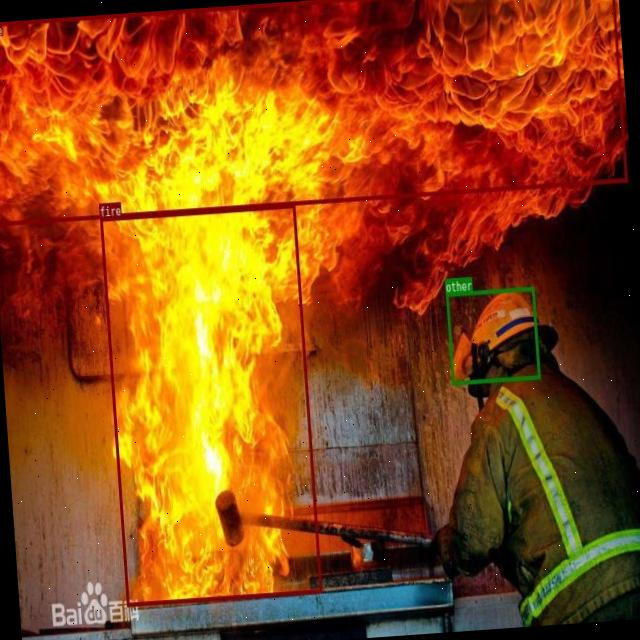fire: (0, 0, 627, 225), (99, 204, 321, 606)
